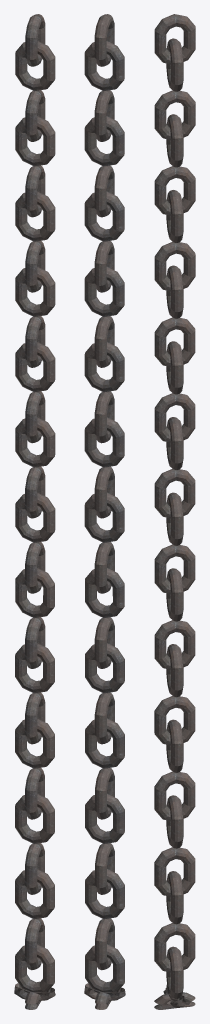
The model's file is SM_ChainLink_01_Splines_12.fbx.
3 renders of one model, left to right at view 1: azimuth 30°, elevation 25°; view 2: azimuth 210°, elevation 25°; view 3: azimuth 330°, elevation 25°, orthographic.
Parts seen in each view (by area): view 1: SM_ChainLink_01_Splines_12; view 2: SM_ChainLink_01_Splines_12; view 3: SM_ChainLink_01_Splines_12.
Part boxes in pixels (x1,y1,x2,y2): SM_ChainLink_01_Splines_12: [14, 14, 55, 1009]; SM_ChainLink_01_Splines_12: [84, 14, 125, 1009]; SM_ChainLink_01_Splines_12: [154, 14, 195, 1009].
Bounding box in the file's own units: 3.35 × 3.4 × 103.
